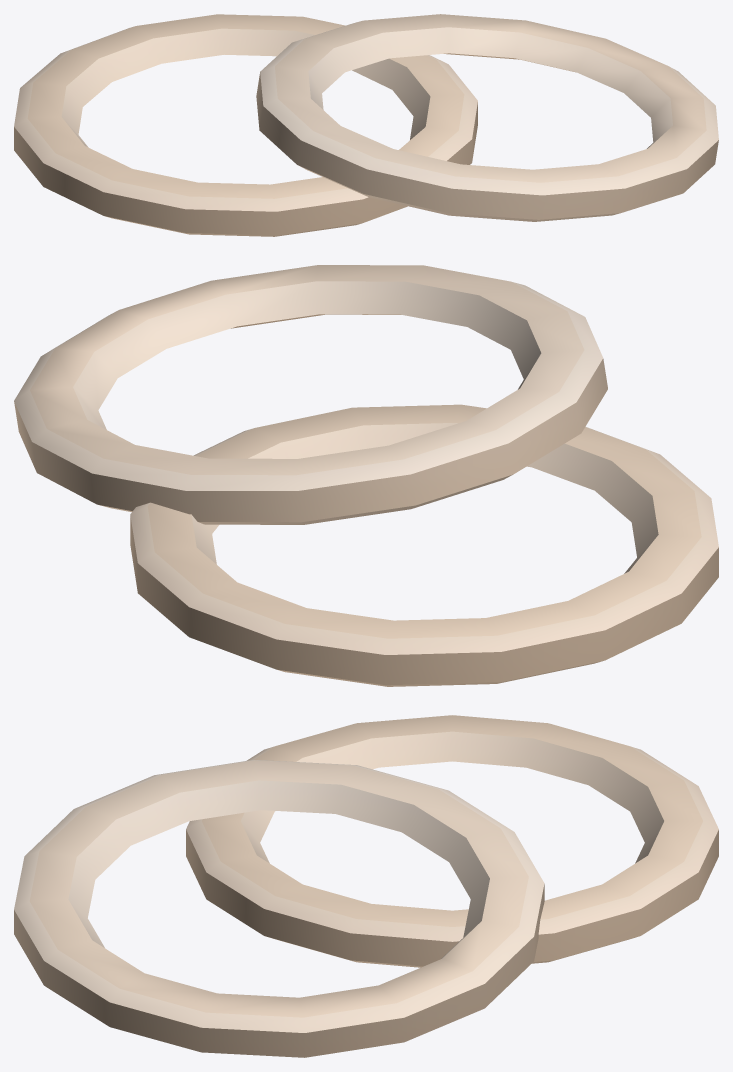
The model's file is kay-food_ingredient_onion_rings.glb.
3 views of the same model, one above another, from view 1: azimuth 30°, elevation 25°; view 2: azimuth 150°, elevation 25°; view 3: azimuth 270°, elevation 25° (orthographic). The views are drawn at different scales.
Visible parts, largest first — view 1: food_ingredient_onion_rings; view 2: food_ingredient_onion_rings; view 3: food_ingredient_onion_rings.
Part boxes in pixels (x1,y1,x2,y2): food_ingredient_onion_rings: (14,14,718,236); food_ingredient_onion_rings: (14,265,718,686); food_ingredient_onion_rings: (14,715,718,1057).
Size of the model in its own units: 0.22 by 0.0302 by 0.2069.
Materials: 1 (1 with a texture image).
